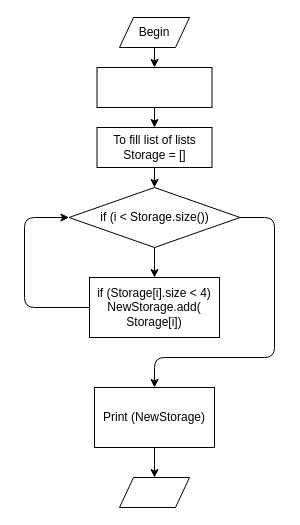
Some shapes in this 300 by 525 pixel diagram are drawn without their labels. Each missing label, with the centre of its shape:
Create the list of lists: point 154,87
End: point 154,492
